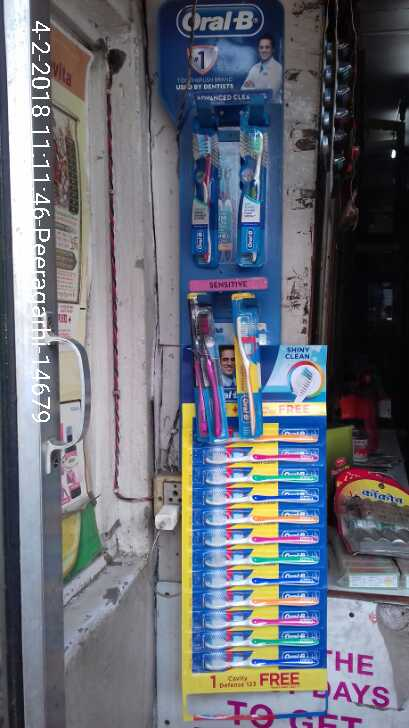oralb: (183, 130, 220, 272), (237, 131, 270, 277), (190, 306, 224, 439), (235, 316, 260, 430), (206, 485, 317, 509), (203, 508, 314, 532), (207, 528, 318, 552), (205, 551, 316, 575), (208, 569, 319, 593), (206, 589, 317, 613), (207, 604, 318, 628), (205, 630, 316, 654), (206, 651, 317, 675), (206, 450, 321, 469), (204, 468, 319, 487)
